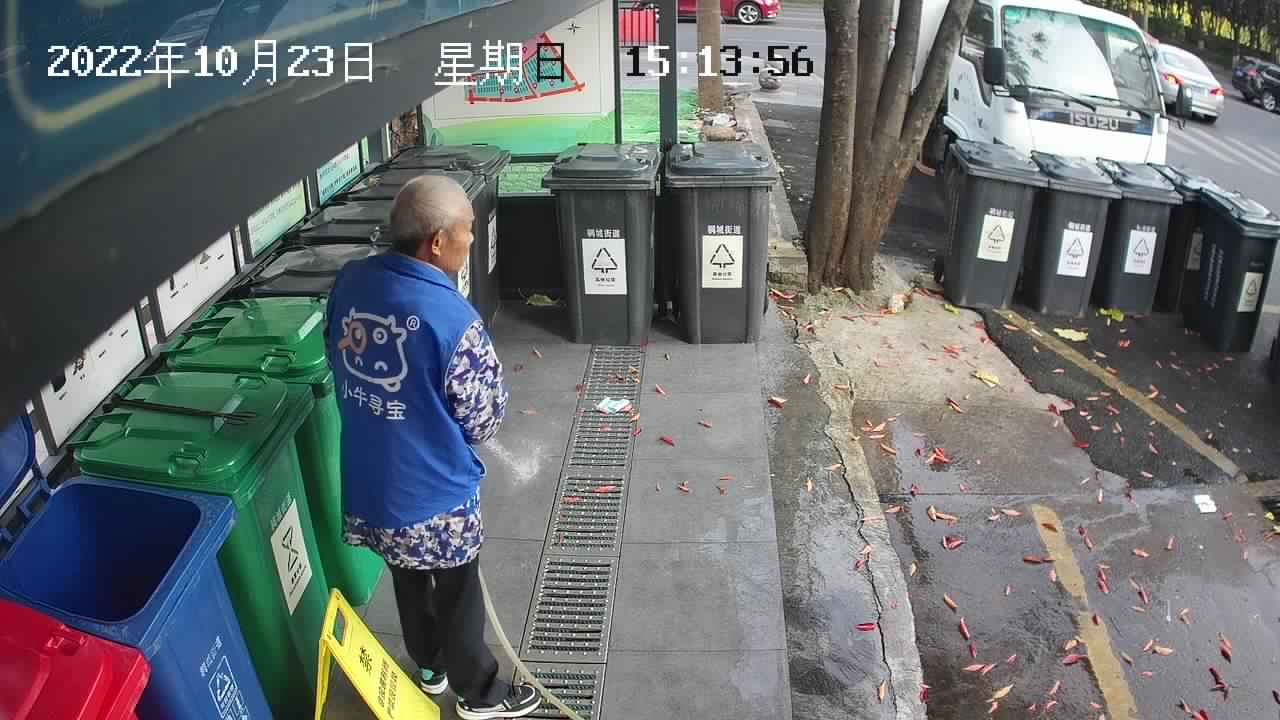worker: (319, 167, 552, 720)
